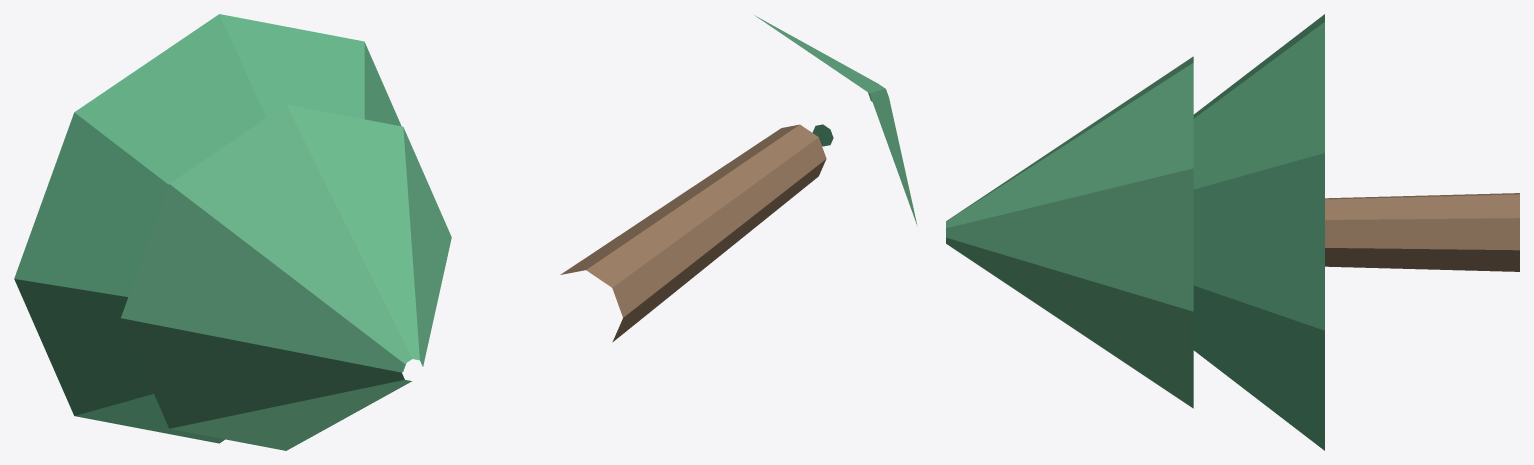
File: pine_tree_lod2.glb
3 renders of one model, left to right at view 1: azimuth 30°, elevation 25°; view 2: azimuth 150°, elevation 25°; view 3: azimuth 270°, elevation 25°, orthographic.
Parts seen in each view (by area): view 1: canopy_1, canopy_0; view 2: trunk, canopy_1; view 3: canopy_1, canopy_0, trunk.
Part boxes in pixels (x1,y1,x2,y2): canopy_1: (121, 104, 451, 450); canopy_0: (14, 14, 401, 443); trunk: (560, 124, 826, 342); canopy_1: (754, 15, 917, 226); canopy_1: (946, 56, 1193, 408); canopy_0: (1193, 14, 1324, 450); trunk: (1325, 193, 1519, 271).
Bounding box in the file's own units: 3.1 × 3.1 × 3.83.
